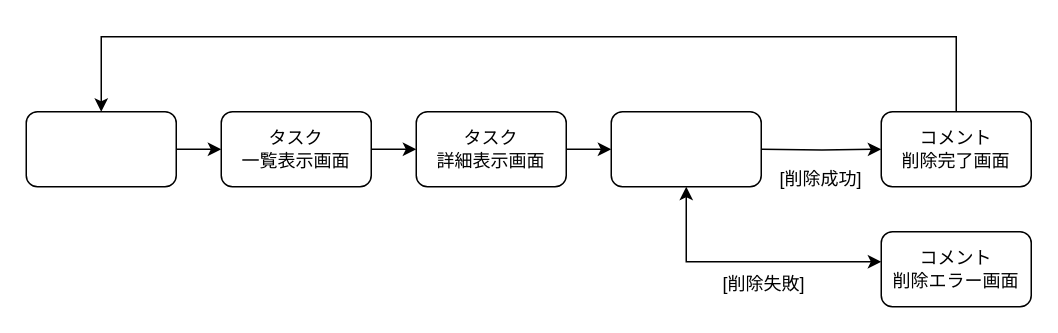
Some shapes in this 1058 by 333 pixel diagram are drawn without their labels. The box of each missing label's shape, as (x1, y1, x2, y2) in pixels:
コメント 削除確認画面: (610, 110, 761, 187)
メニュー画面: (25, 110, 176, 187)
